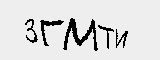З: (39, 17, 61, 49), (20, 17, 41, 44)
И: (113, 27, 129, 53)
М: (63, 15, 98, 56)
Т: (98, 24, 115, 51)
